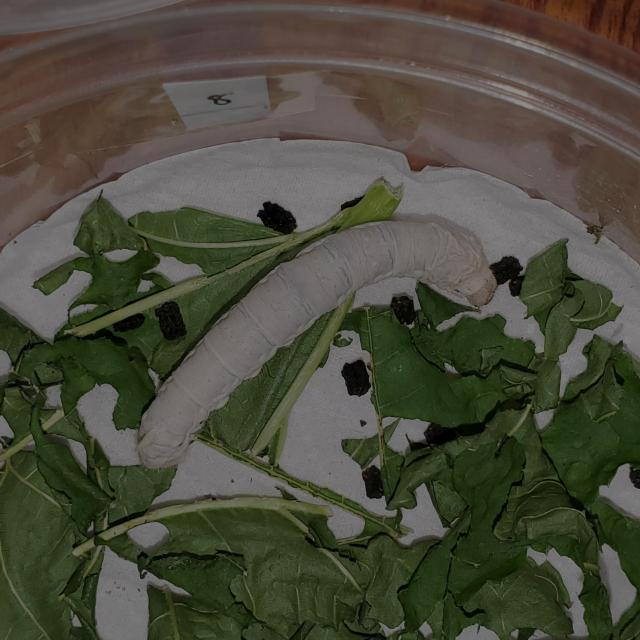Healthy: (129, 208, 504, 477)
